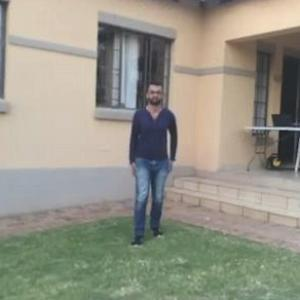follow: (128, 71, 182, 251)
